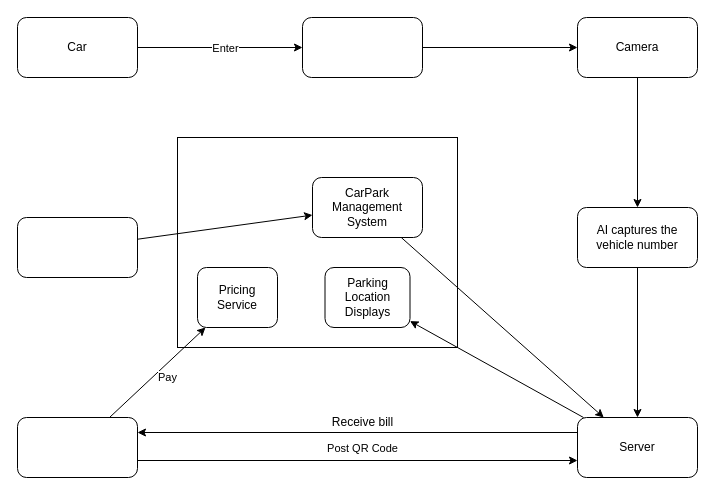
Image size: 715x495. Some labels were removed from this diagram. Each missing label, with the centre of its shape:
"App" goes at (77,447).
"Entry Kiosk" goes at (362,47).
"Staff" goes at (77,247).
